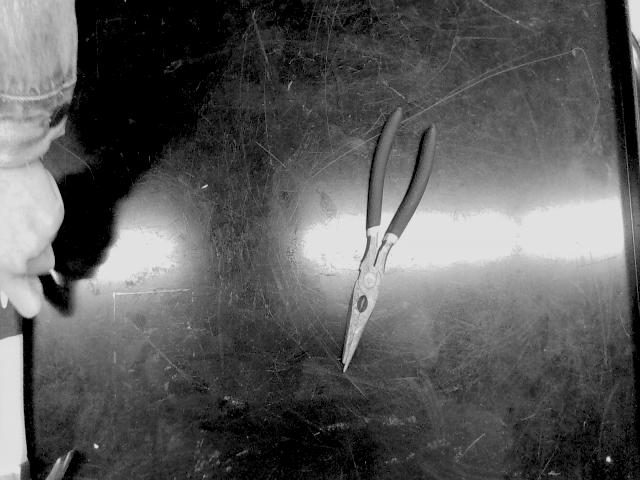Hammer: (0, 289, 44, 480)
Hand: (0, 0, 78, 316)
Needle-nose pliers: (341, 108, 436, 371)
